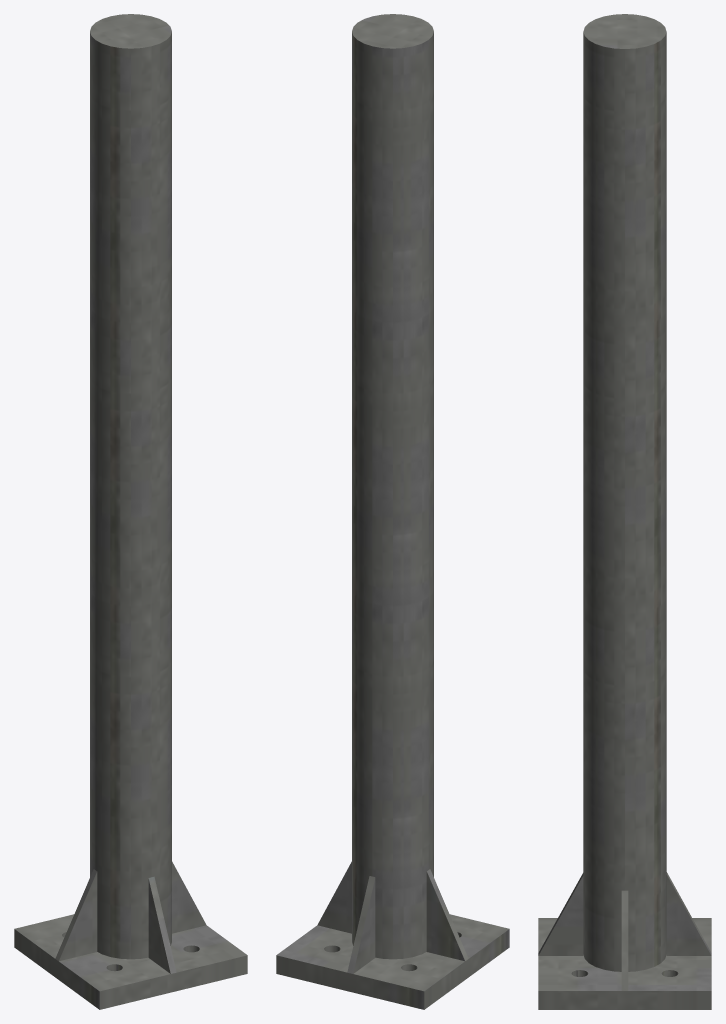
Rendered from poste-1-5m.fbx.
3 views of the same model, side by side, from view 1: azimuth 30°, elevation 25°; view 2: azimuth 150°, elevation 25°; view 3: azimuth 270°, elevation 25° (orthographic).
Parts seen in each view (by area): view 1: Poste_1_5m1; view 2: Poste_1_5m1; view 3: Poste_1_5m1.
Boxes of the visible parts, x1=… form: Poste_1_5m1: x1=14, y1=14, x2=247, y2=1009; Poste_1_5m1: x1=276, y1=14, x2=509, y2=1009; Poste_1_5m1: x1=538, y1=14, x2=711, y2=1009.
Bounding box in the file's own units: 250 × 1500 × 250.
